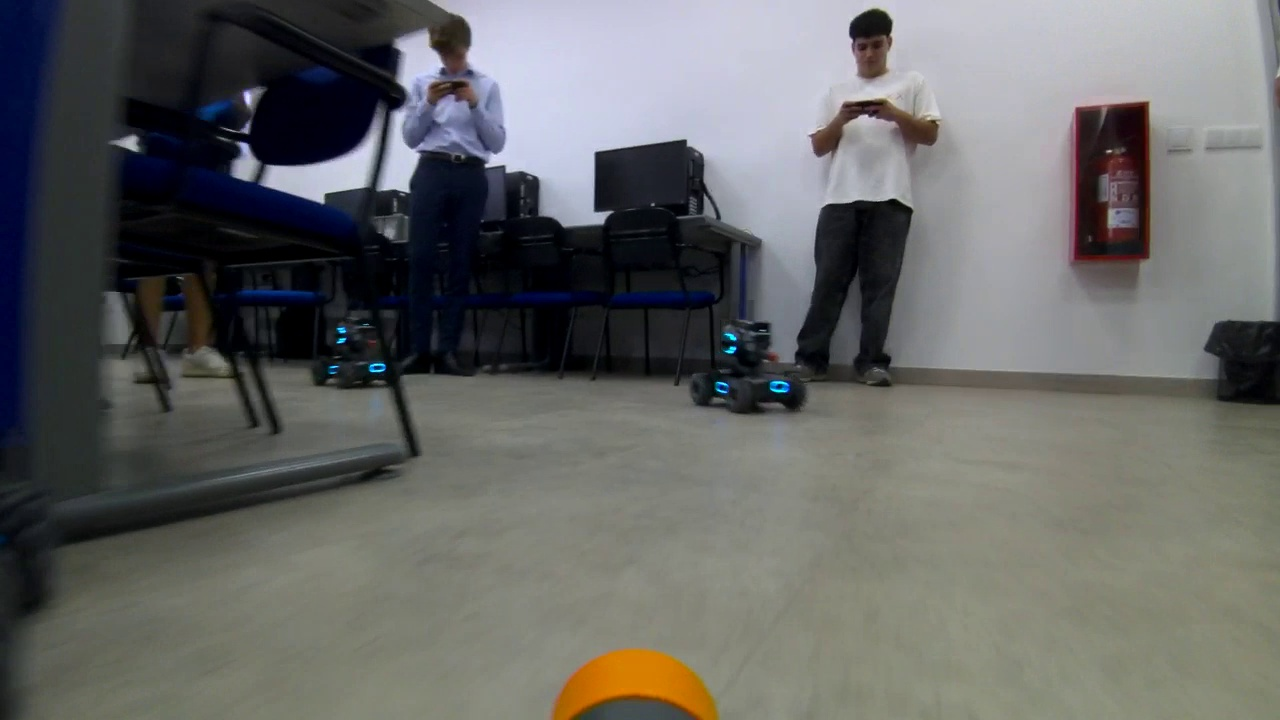robot: (689, 310, 816, 419), (308, 316, 407, 399)
